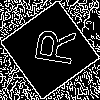R: (25, 25, 76, 68)
